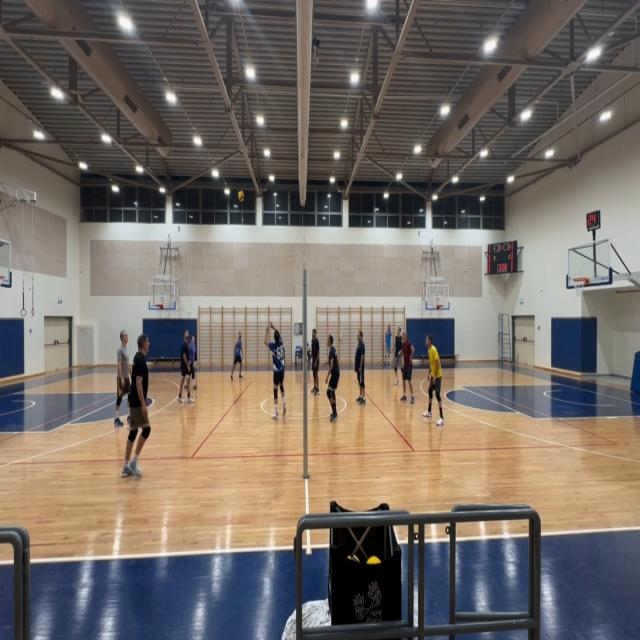volleyball: (238, 190, 244, 202)
